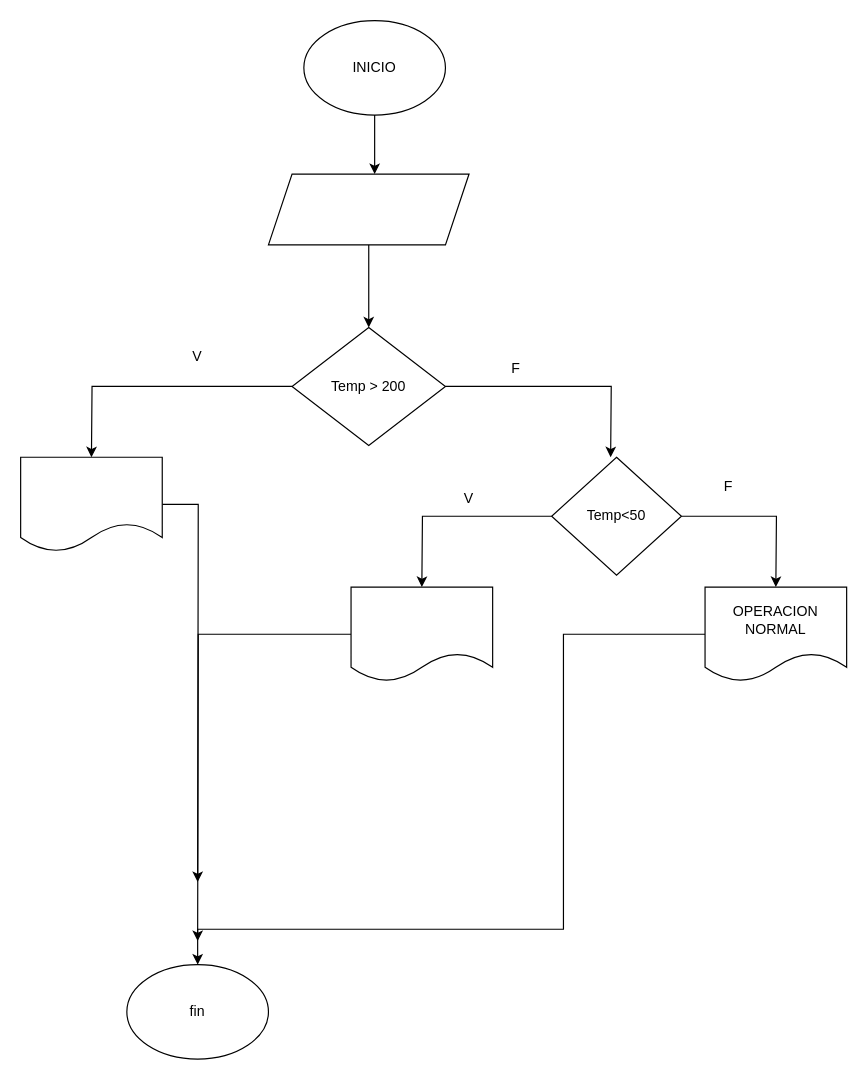
Some shapes in this 867 by 1080 pixel diagram are drawn without their labels. Here are the shapes that lost their labels. From the top down, the box of each, then its label:
(267, 173, 469, 245): Temp
(19, 456, 162, 552): PELIGRO
(350, 586, 493, 681): PELIGRO DEMASIADO BAJO
